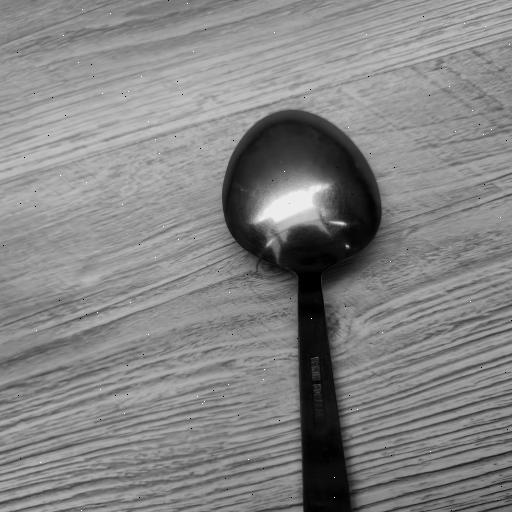spoon: (221, 106, 383, 512)
